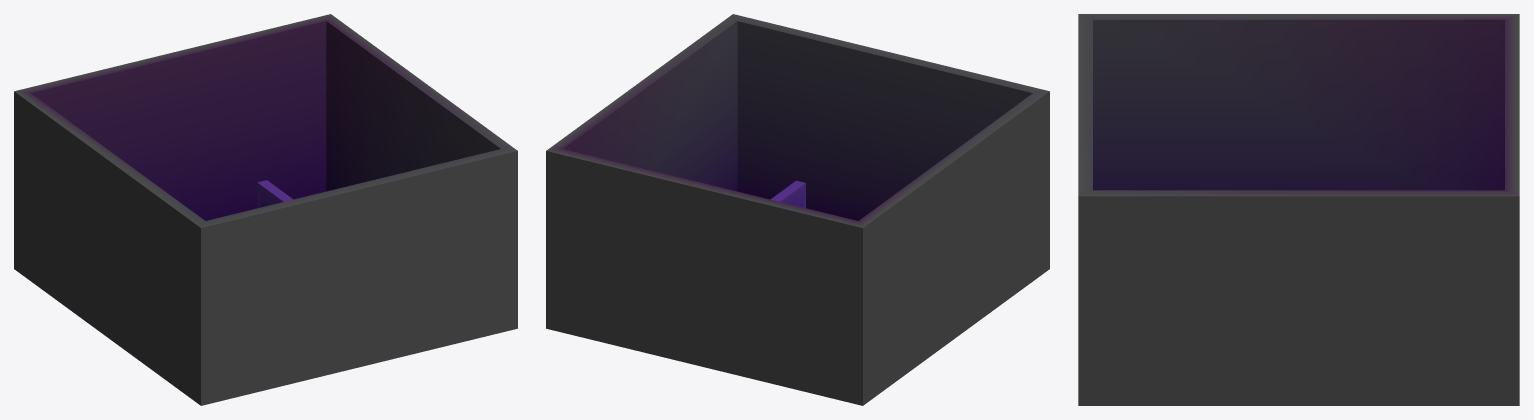
The picture shows the model from 3 angles, left to right: view 1: azimuth 30°, elevation 25°; view 2: azimuth 150°, elevation 25°; view 3: azimuth 270°, elevation 25°; orthographic projection. The views are drawn at different scales.
Visible parts, largest first — view 1: walls_and_floor, seat; view 2: walls_and_floor, seat; view 3: walls_and_floor.
Part boxes in pixels (x1,y1,x2,y2): walls_and_floor: [14, 14, 517, 405]; seat: [257, 180, 293, 208]; walls_and_floor: [546, 14, 1049, 405]; seat: [770, 180, 805, 207]; walls_and_floor: [1078, 14, 1519, 405].
Size of the model in its own units: 0.4891 by 0.2623 by 0.5.
